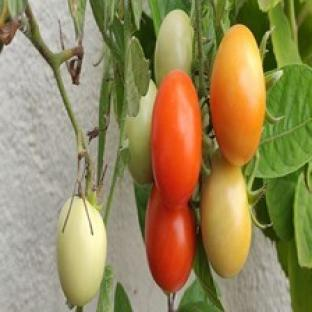Tomato: (211, 24, 266, 165), (152, 70, 201, 206), (201, 151, 250, 277), (58, 197, 107, 306), (145, 187, 194, 292), (126, 81, 157, 183), (155, 10, 193, 86)
